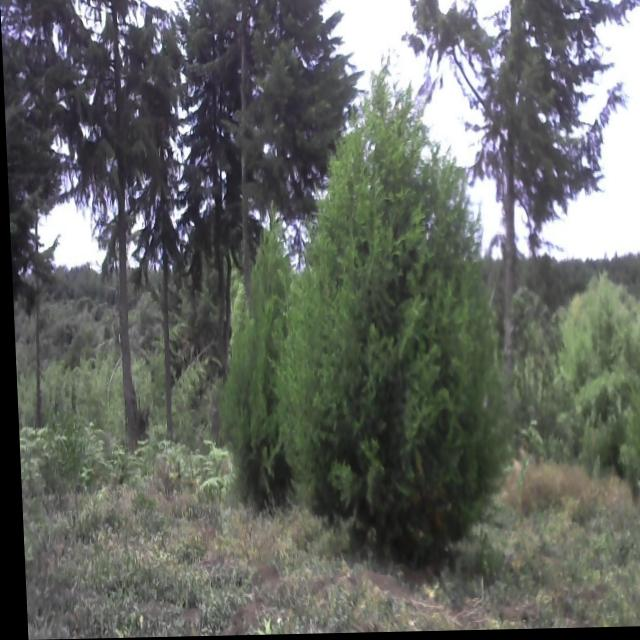cedrus: (289, 72, 509, 546), (412, 0, 634, 250), (182, 0, 344, 238), (44, 0, 171, 250), (218, 214, 301, 504), (0, 3, 58, 270)
